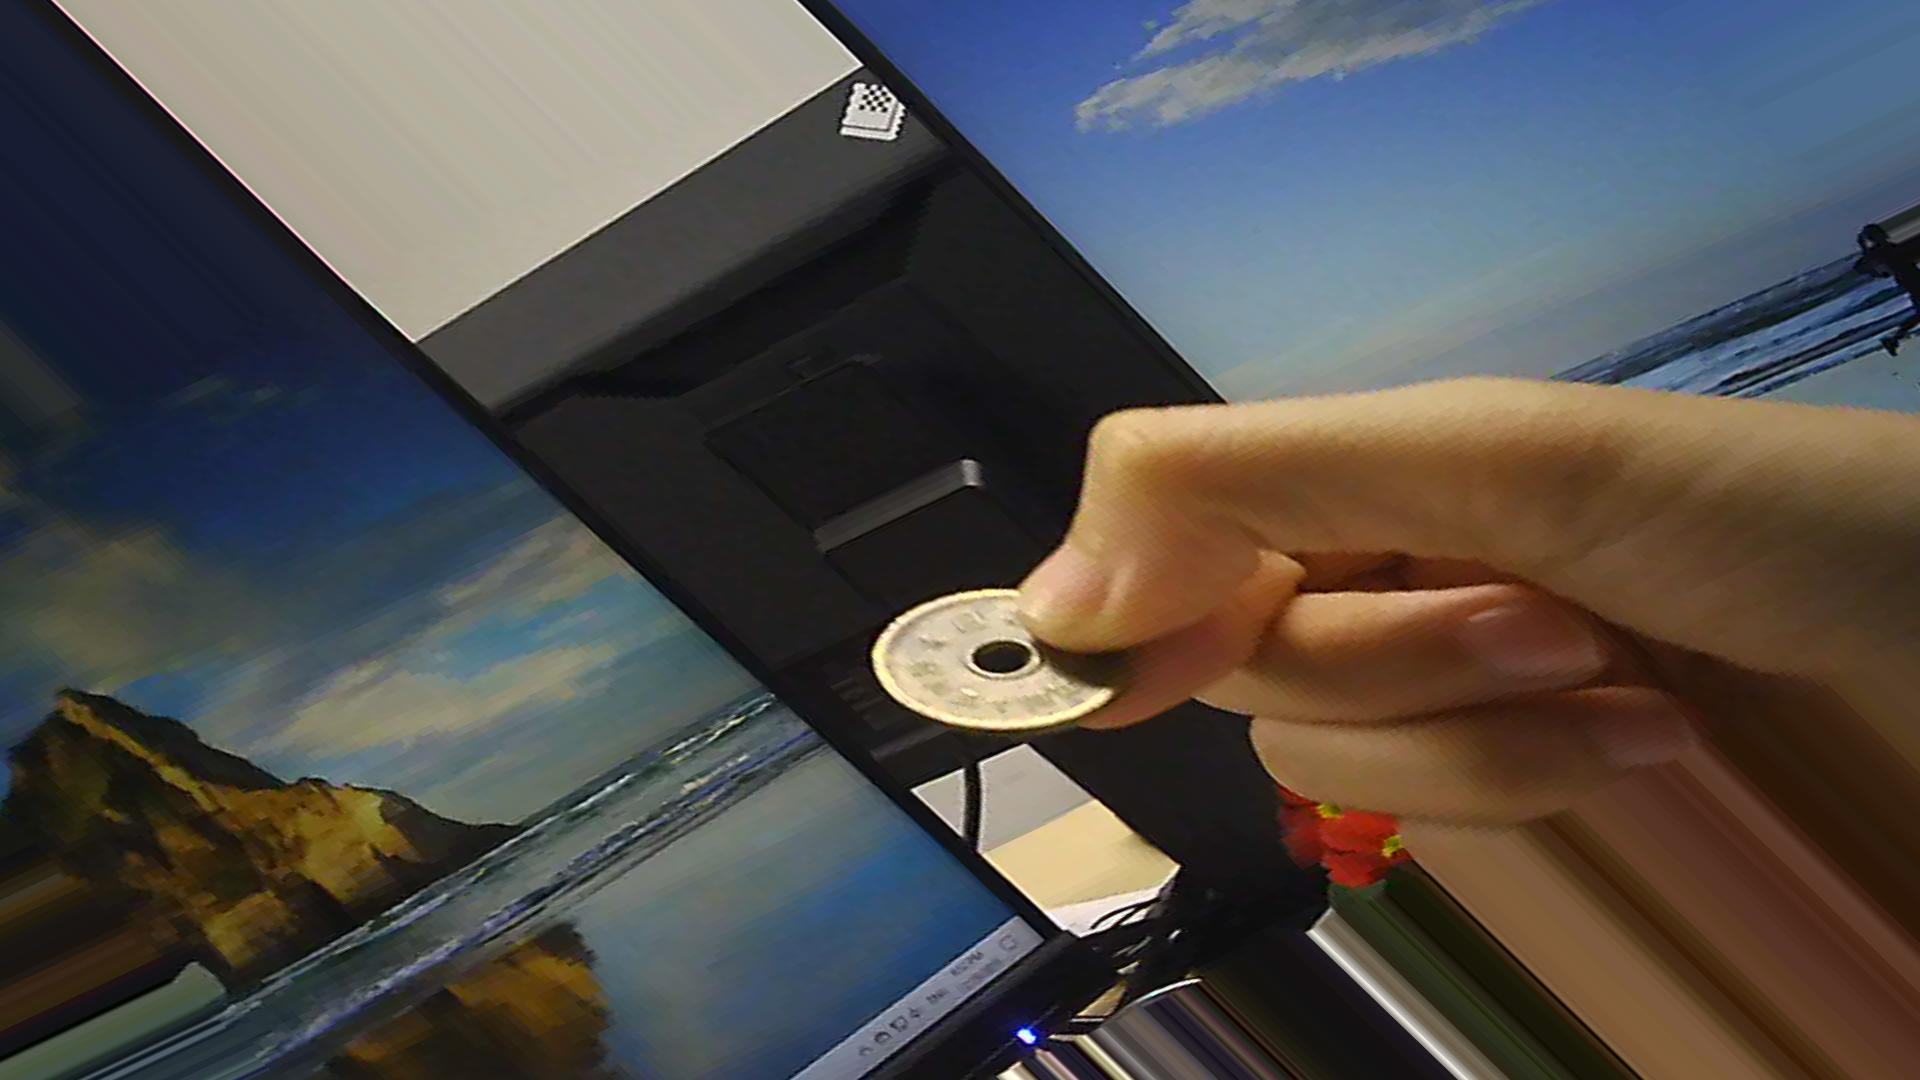5 Yen: (869, 583, 1120, 753)
